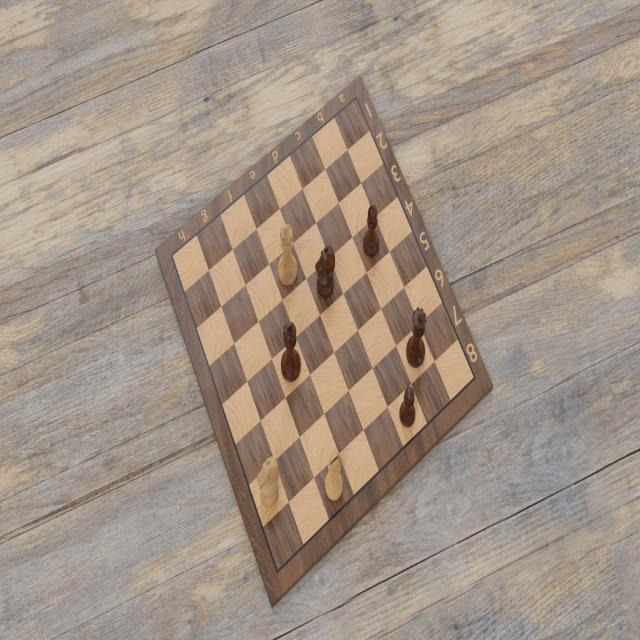black-bishop: (362, 202, 381, 258)
black-king: (280, 320, 303, 385)
black-knight: (314, 243, 338, 301)
black-pawn: (399, 386, 417, 430)
black-queen: (405, 308, 427, 372)
white-bishop: (324, 448, 344, 503)
white-king: (276, 222, 301, 288)
white-knight: (256, 453, 281, 511)
